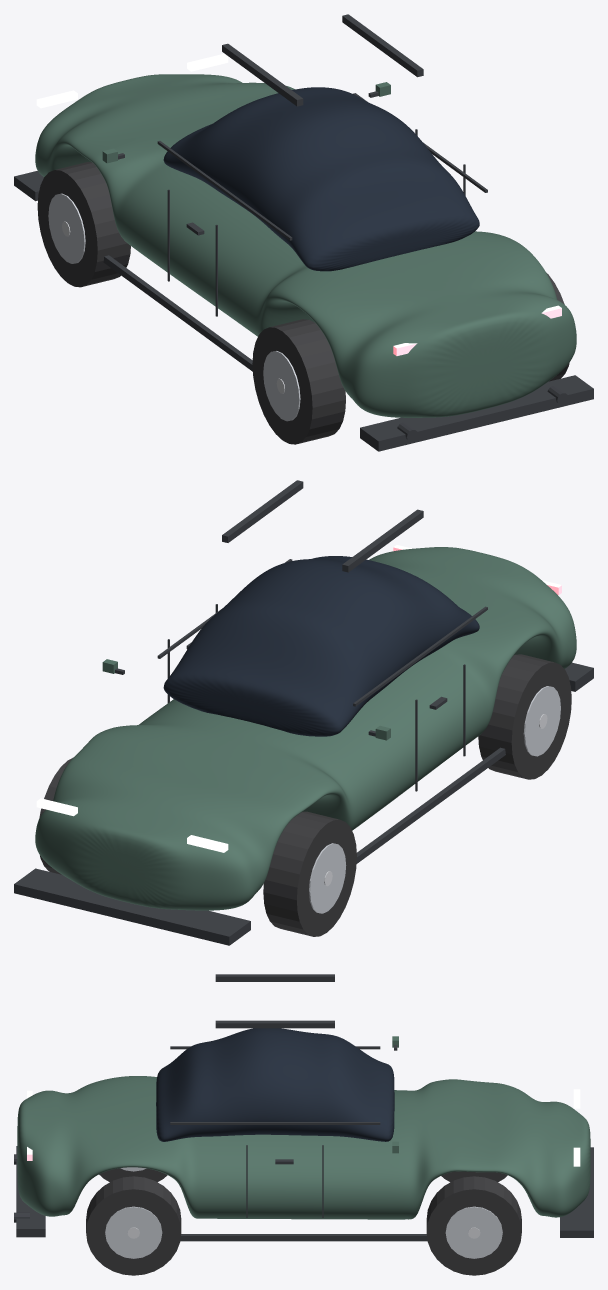
File: colossus-v.glb
3 renders of one model, top to bottom at view 1: azimuth 30°, elevation 25°; view 2: azimuth 150°, elevation 25°; view 3: azimuth 270°, elevation 25°, orthographic. The views are drawn at different scales.
Visible parts, largest first — view 1: Body, Glass, Trim, WheelRL, WheelFL, LightFront; view 2: Body, Glass, Trim, WheelFL, WheelRL, LightFront; view 3: Body, Glass, Trim, WheelFR, WheelRR, WheelRL, WheelFL.
Part boxes in pixels (x1,y1,x2,y2): Body: [35, 74, 576, 417]; Glass: [163, 87, 479, 271]; Trim: [14, 14, 593, 451]; WheelRL: [252, 319, 345, 444]; WheelFL: [37, 162, 130, 287]; LightFront: [36, 54, 228, 108]; Body: [35, 547, 576, 910]; Glass: [163, 556, 479, 736]; Trim: [14, 480, 593, 945]; WheelFL: [263, 811, 356, 936]; WheelRL: [478, 654, 571, 779]; LightFront: [36, 798, 228, 852]; Body: [17, 1076, 590, 1219]; Glass: [156, 1028, 394, 1141]; Trim: [14, 974, 593, 1241]; WheelFR: [426, 1176, 521, 1275]; WheelRR: [86, 1176, 181, 1275]; WheelRL: [99, 1167, 167, 1182]; WheelFL: [441, 1171, 507, 1182].
Bounding box in the file's own units: 2.29 × 2.21 × 5.11.
